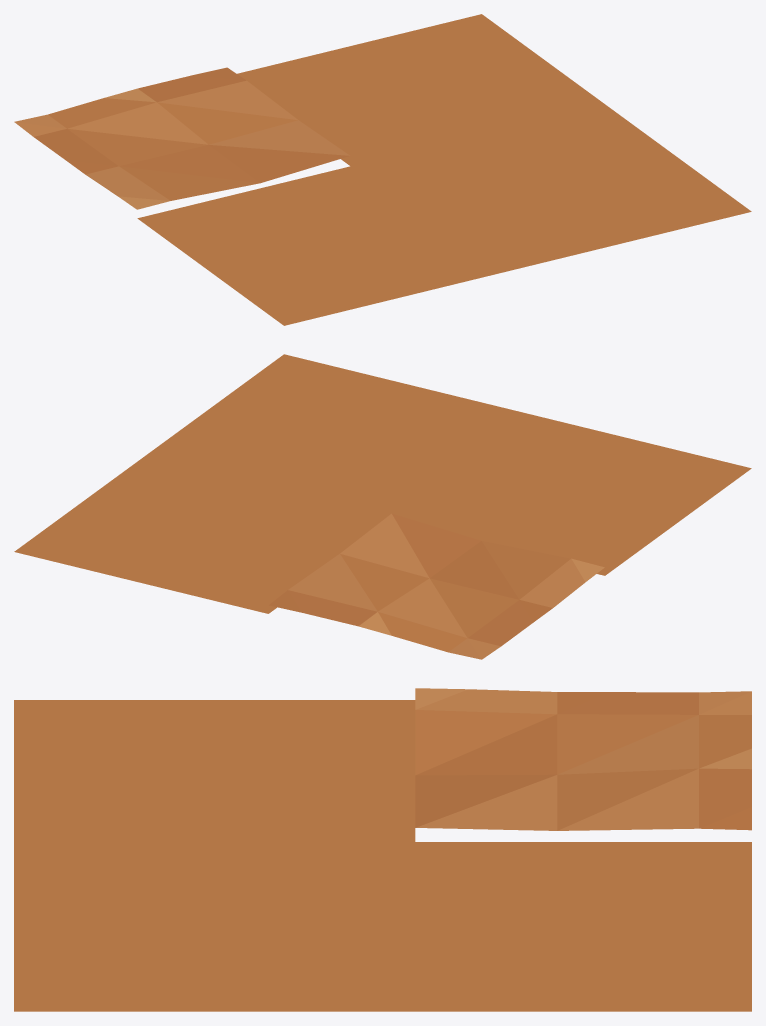
The picture shows the model from 3 angles, top to bottom: view 1: azimuth 30°, elevation 25°; view 2: azimuth 150°, elevation 25°; view 3: azimuth 270°, elevation 25°; orthographic projection. The views are drawn at different scales.
Parts seen in each view (by area): view 1: baked; view 2: baked; view 3: baked.
Part boxes in pixels (left/top/right/bottom): baked: left=14, top=14, right=751, bottom=325; baked: left=14, top=354, right=751, bottom=659; baked: left=14, top=688, right=751, bottom=1011.
Size of the model in its own units: 62.5 by 1.33 by 62.5.
